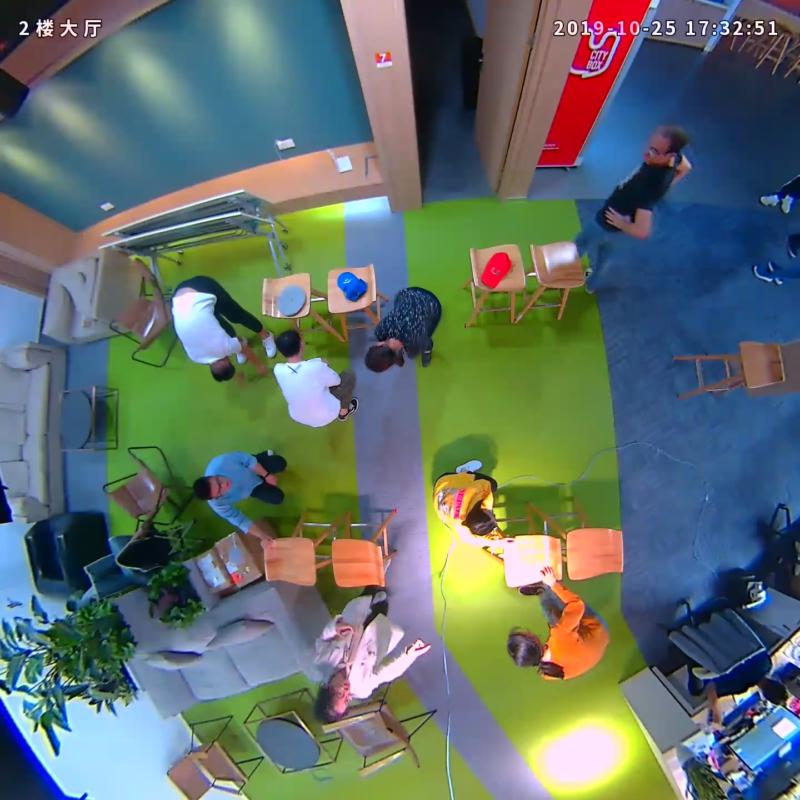head: (633, 123, 691, 172), (304, 671, 357, 724), (500, 624, 546, 672), (358, 338, 410, 377), (459, 499, 504, 543), (187, 472, 234, 503), (198, 352, 241, 383), (271, 327, 308, 360)
